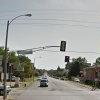Traffic light: (55, 33, 72, 64)
